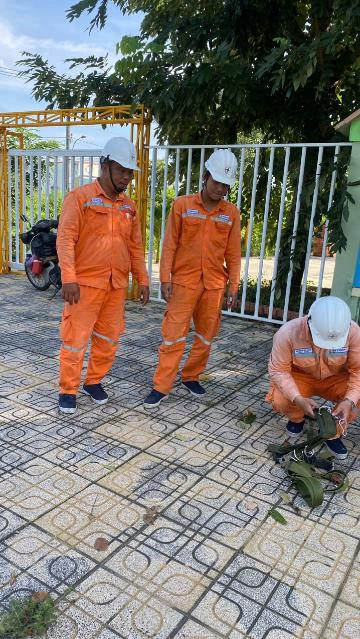harness: (297, 396, 337, 509)
helmet: (302, 288, 356, 350), (194, 145, 244, 188), (100, 132, 144, 178)
shoes: (140, 379, 176, 412), (80, 377, 109, 408), (321, 436, 355, 462), (53, 386, 85, 412), (177, 374, 206, 401), (285, 418, 302, 440)
